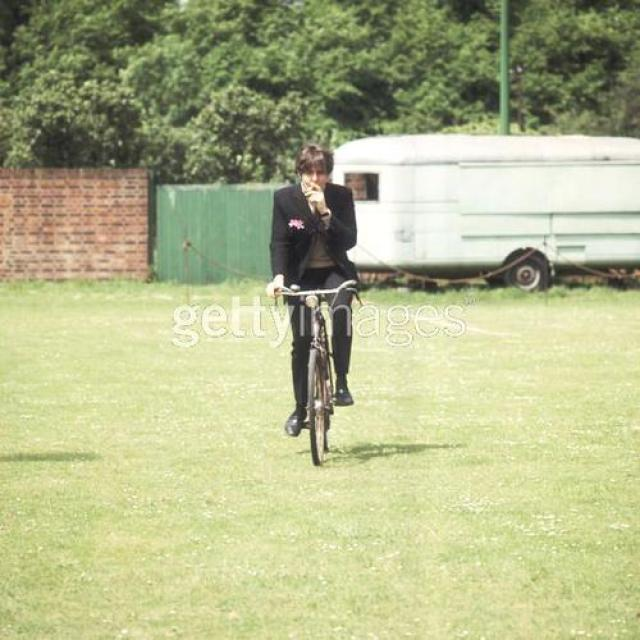bikerider: (258, 136, 372, 481)
